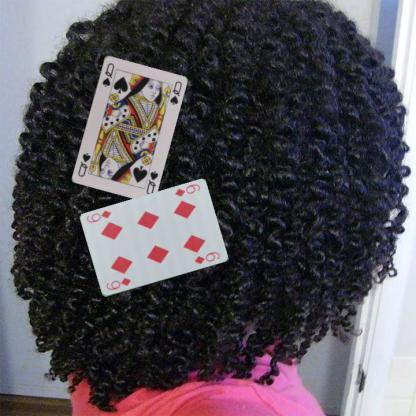6d: (104, 275, 132, 292), (172, 182, 201, 198)
Qs: (144, 168, 160, 196), (99, 61, 115, 88)
